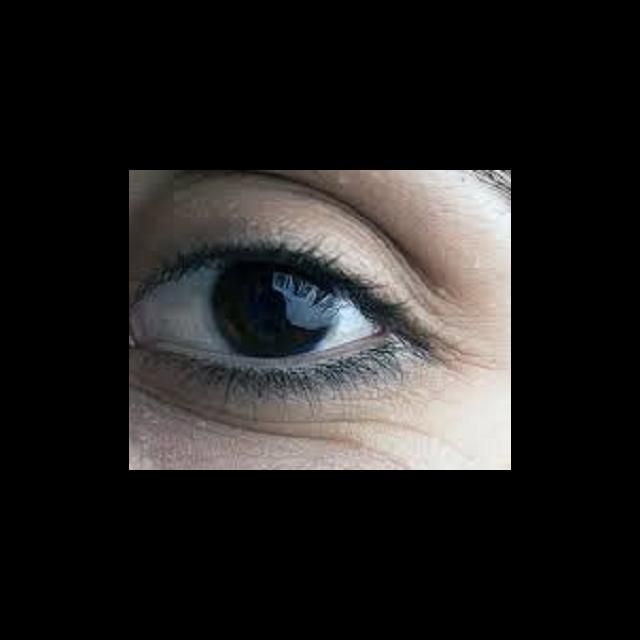eye: (149, 258, 385, 358)
iris: (212, 262, 341, 357)
